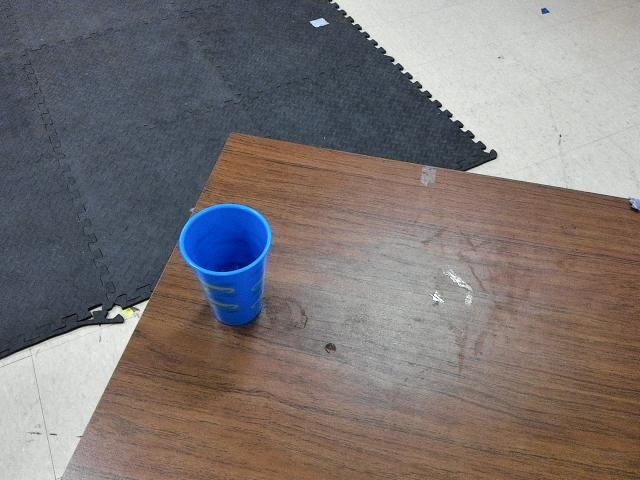water_cup: (174, 201, 280, 332)
